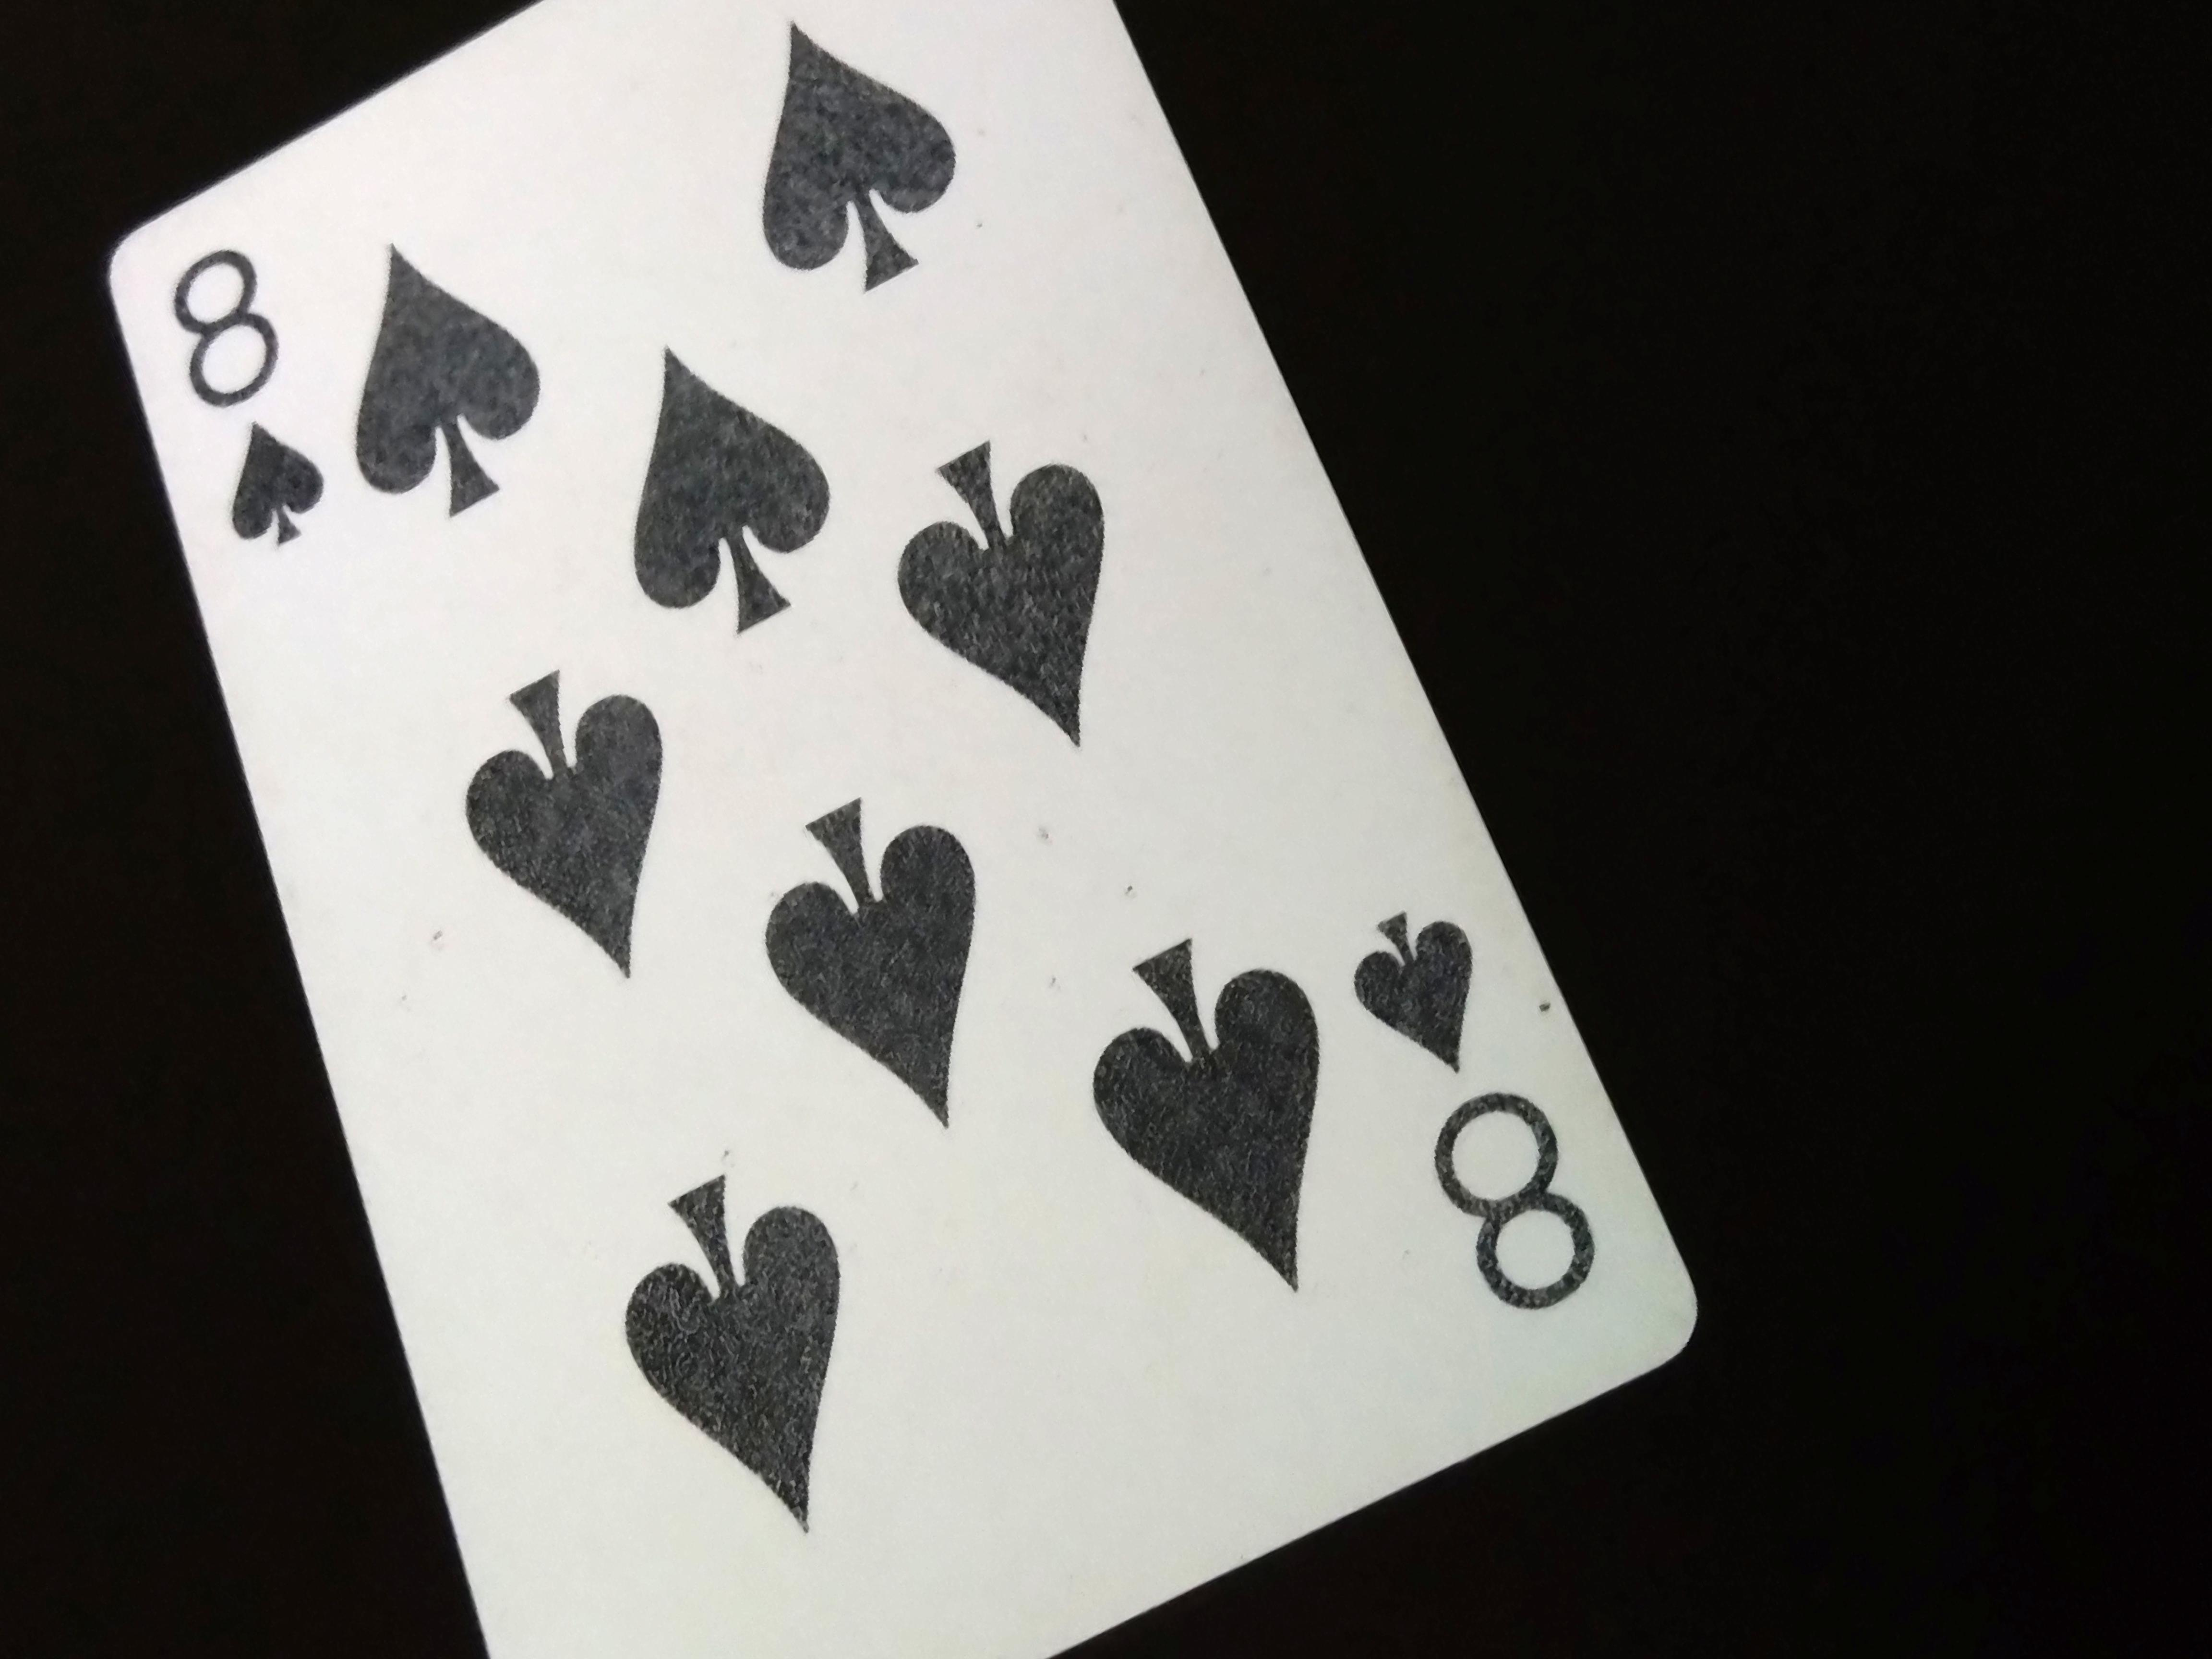8S: (165, 237, 340, 568)
